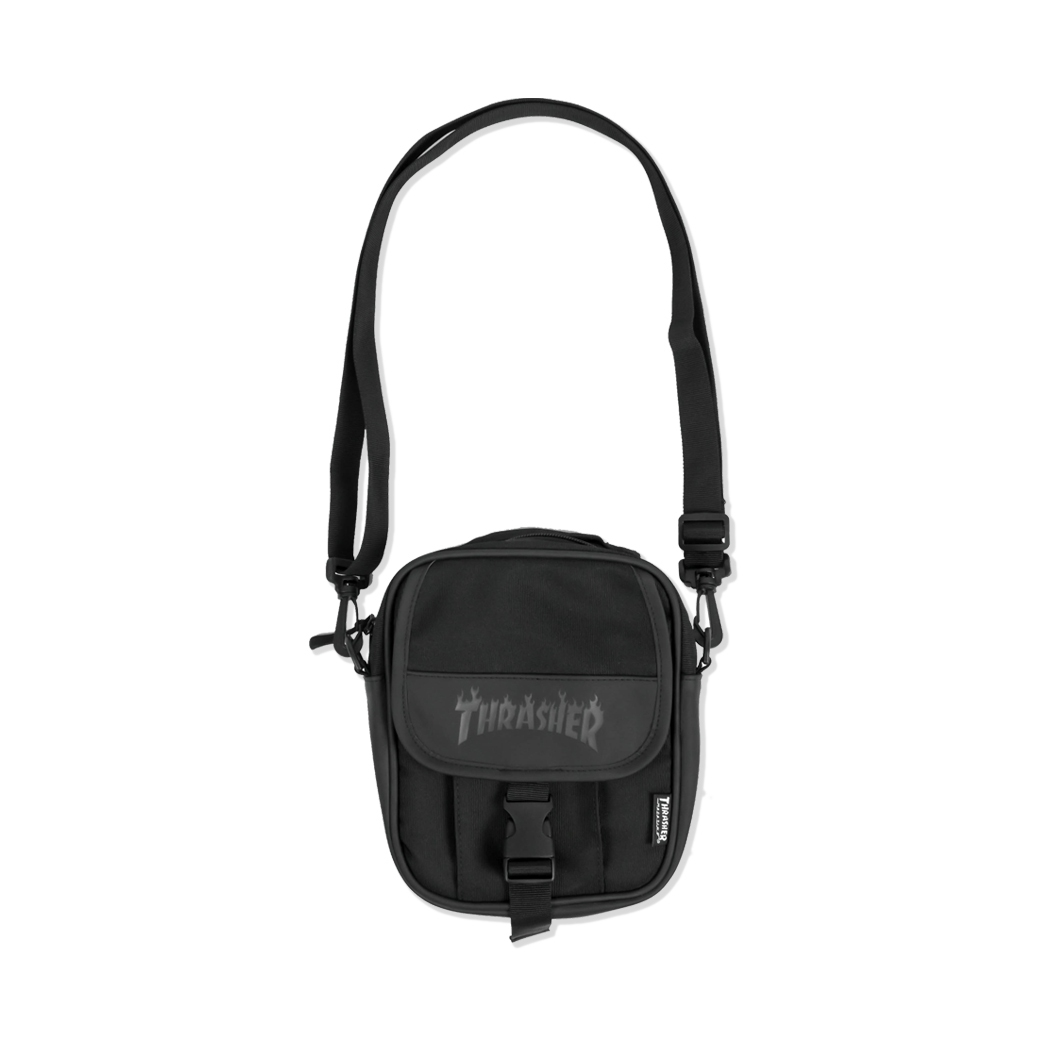shoulder bag: (114, 41, 1040, 966)
